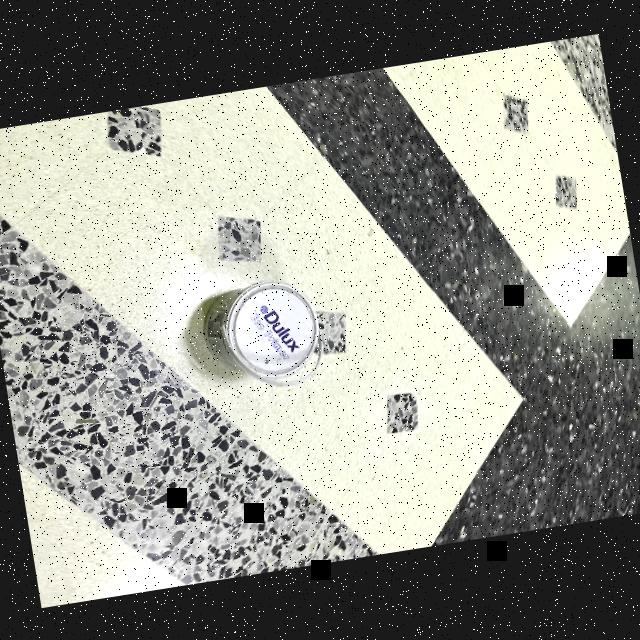paint_bucket: (198, 268, 330, 390)
